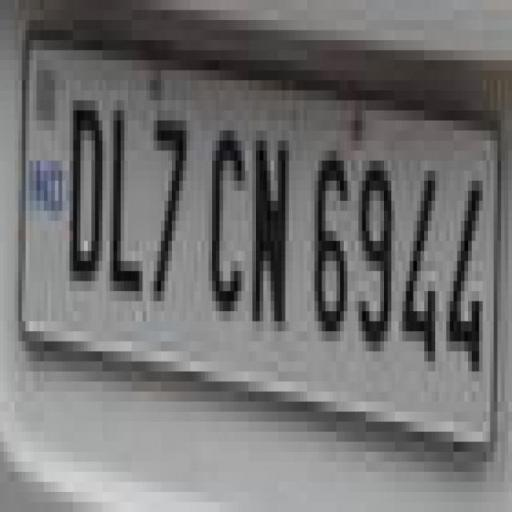number plate: (11, 20, 483, 422)
